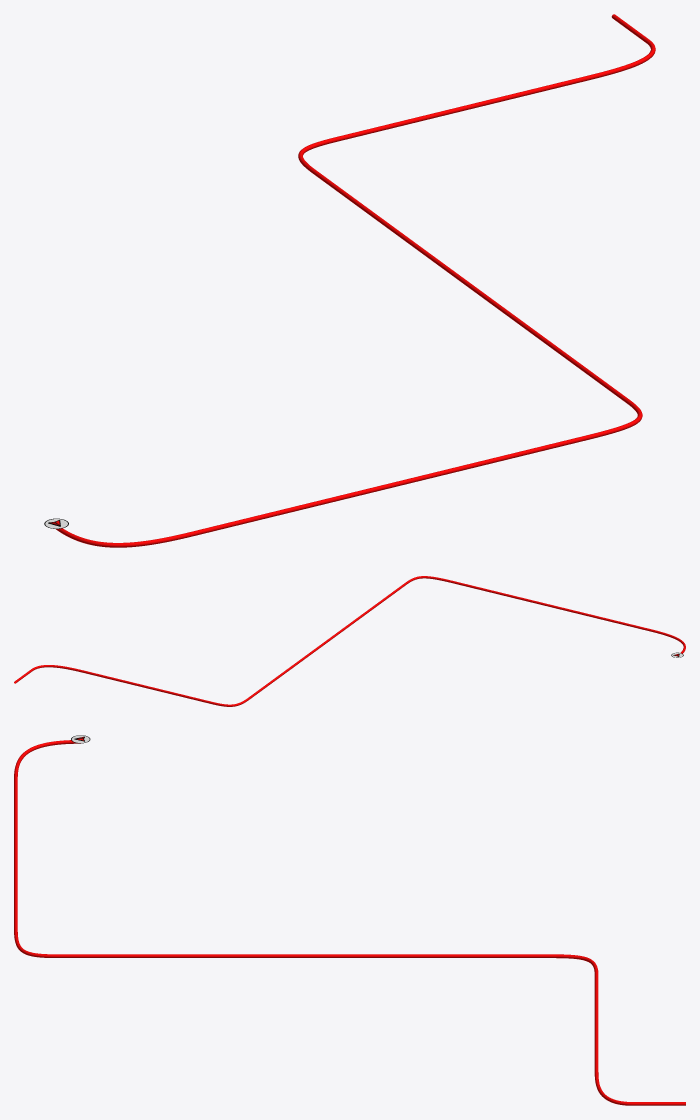
The model's file is route_bd337572-b956-4c4f-a4b8-544022f60a14_en_target.glb.
The picture shows the model from 3 angles, top to bottom: view 1: azimuth 30°, elevation 25°; view 2: azimuth 150°, elevation 25°; view 3: azimuth 270°, elevation 25°; orthographic projection. The views are drawn at different scales.
Visible parts, largest first — view 1: Stroke Unit.016; view 2: Stroke Unit.016; view 3: Stroke Unit.016.
Part boxes in pixels (bbox=[...]): Stroke Unit.016: bbox=[56, 14, 655, 547]; Stroke Unit.016: bbox=[14, 576, 685, 706]; Stroke Unit.016: bbox=[14, 740, 685, 1105].
Bounding box in the file's own units: 18.24 × 0.1086 × 14.11.
